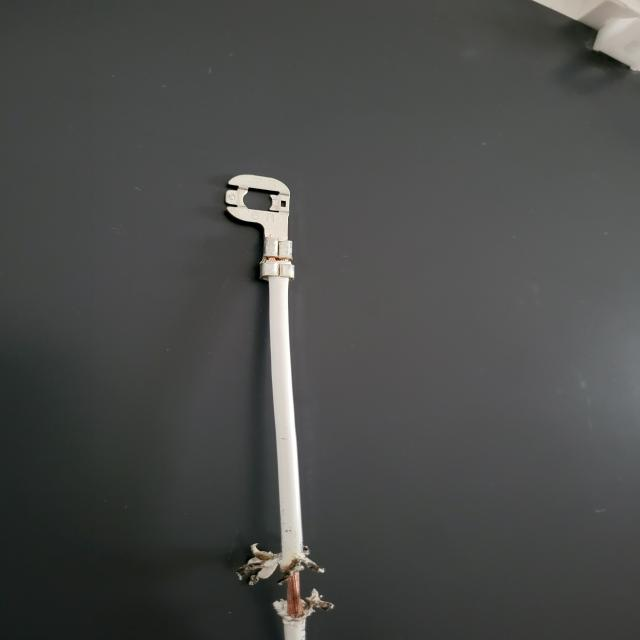defect: (194, 496, 508, 640)
